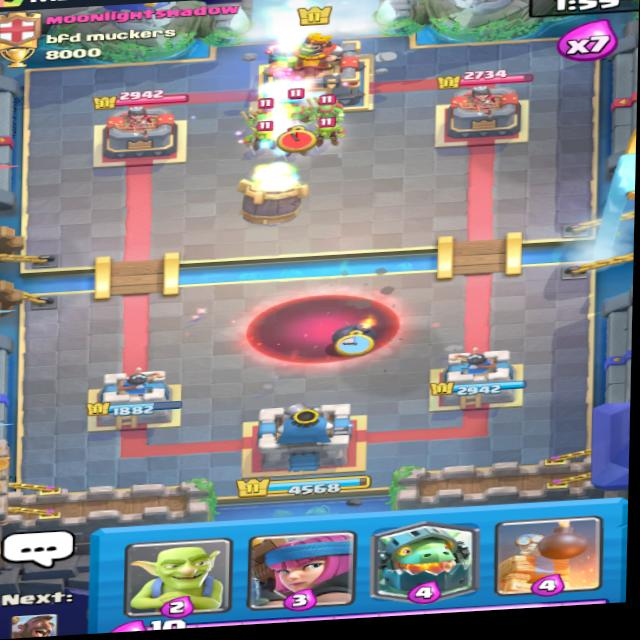goblin: (309, 118, 353, 144), (243, 121, 280, 150)
rocket: (231, 162, 328, 230)
spear-goblin: (310, 92, 354, 125), (237, 101, 281, 129)
void: (246, 285, 401, 367)
